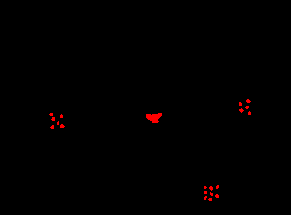Target: (146, 113, 162, 123), (239, 108, 244, 113), (246, 99, 251, 103), (60, 124, 65, 128), (209, 186, 213, 191), (51, 117, 55, 121), (50, 125, 54, 129), (215, 194, 219, 198), (239, 102, 242, 106), (245, 106, 249, 109), (248, 111, 251, 115), (49, 113, 53, 116), (60, 114, 63, 118), (216, 185, 219, 189), (210, 192, 213, 196), (204, 196, 207, 200), (208, 198, 212, 201), (204, 186, 207, 189), (204, 191, 207, 194), (57, 121, 59, 125)
